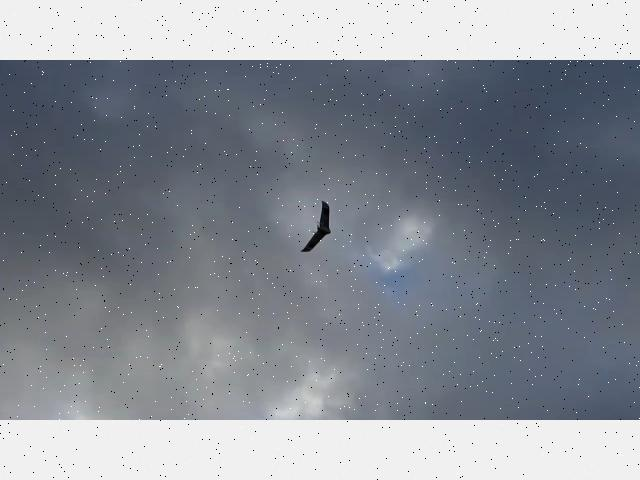Anti-Drone: (300, 198, 332, 252)
